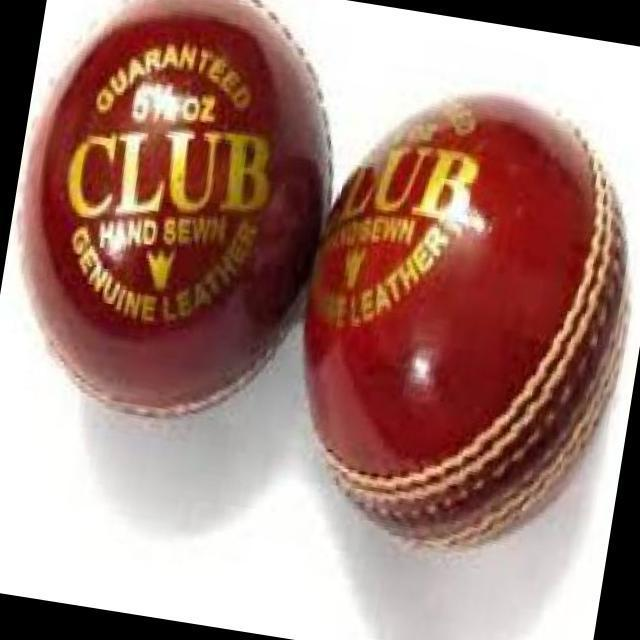-: (291, 72, 640, 562), (4, 0, 358, 427)
